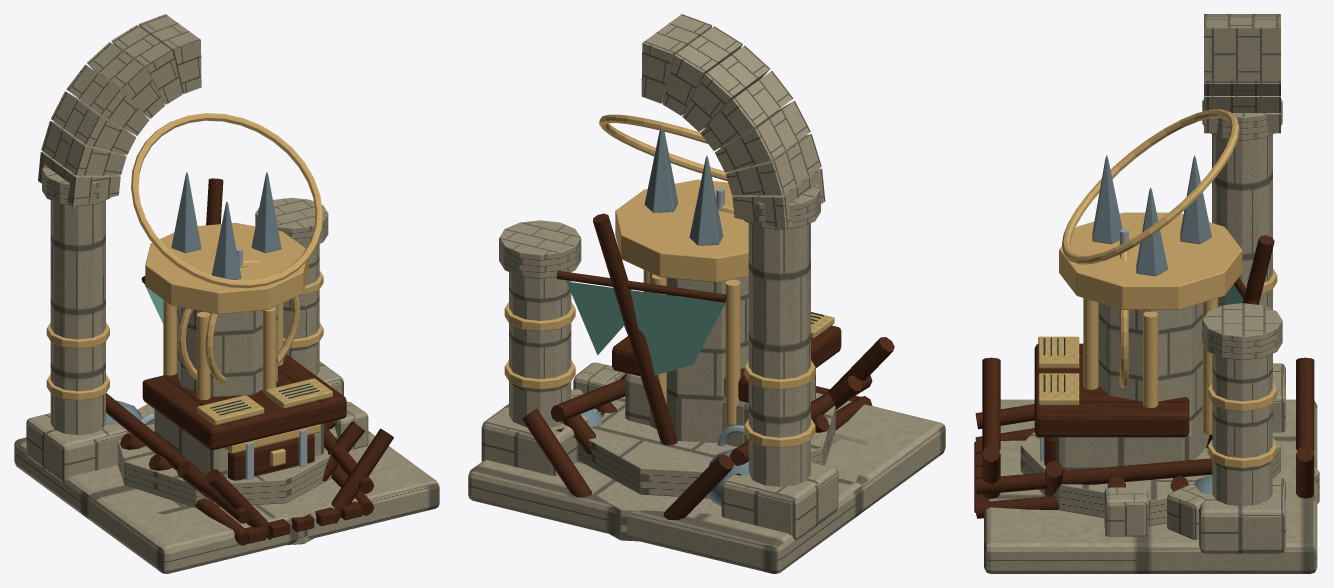
The model's file is chronicle.glb.
3 renders of one model, left to right at view 1: azimuth 30°, elevation 25°; view 2: azimuth 150°, elevation 25°; view 3: azimuth 270°, elevation 25°, orthographic. The views are drawn at different scales.
Parts seen in each view (by area): view 1: meridian_archive, meridian_dormant, meridian_wreck; view 2: meridian_archive, meridian_dormant, meridian_wreck; view 3: meridian_archive, meridian_dormant, meridian_wreck.
Boxes of the visible parts, x1,y1,x2,y2 form: meridian_archive: [14, 14, 439, 573]; meridian_dormant: [105, 113, 374, 544]; meridian_wreck: [106, 178, 393, 545]; meridian_archive: [468, 14, 945, 573]; meridian_dormant: [574, 114, 871, 541]; meridian_wreck: [522, 213, 894, 519]; meridian_archive: [984, 14, 1317, 573]; meridian_dormant: [982, 109, 1319, 525]; meridian_wreck: [974, 235, 1314, 518].
Bounding box in the file's own units: 0.74 × 1.08 × 0.7146.
Materials: 8 (3 with a texture image).
